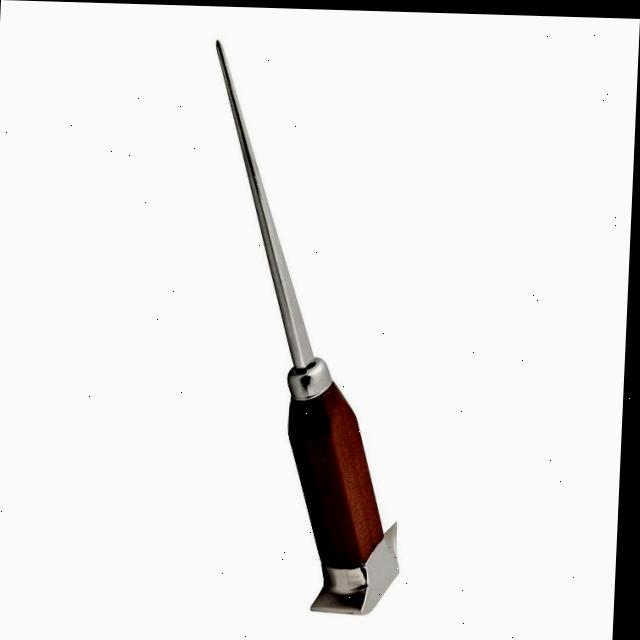ice pick: (194, 38, 423, 615)
